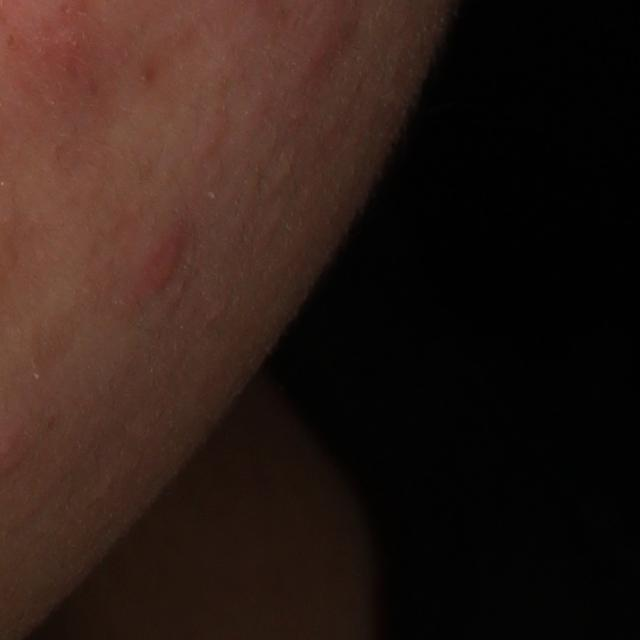papule: (127, 229, 184, 302)
